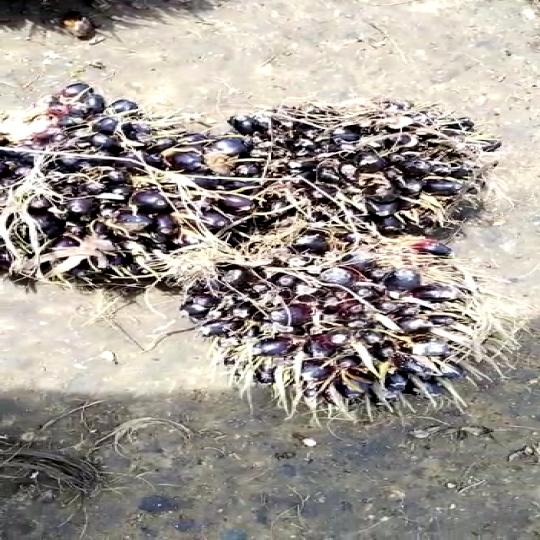mentah: (186, 234, 508, 424), (9, 112, 293, 319), (207, 96, 540, 230)
